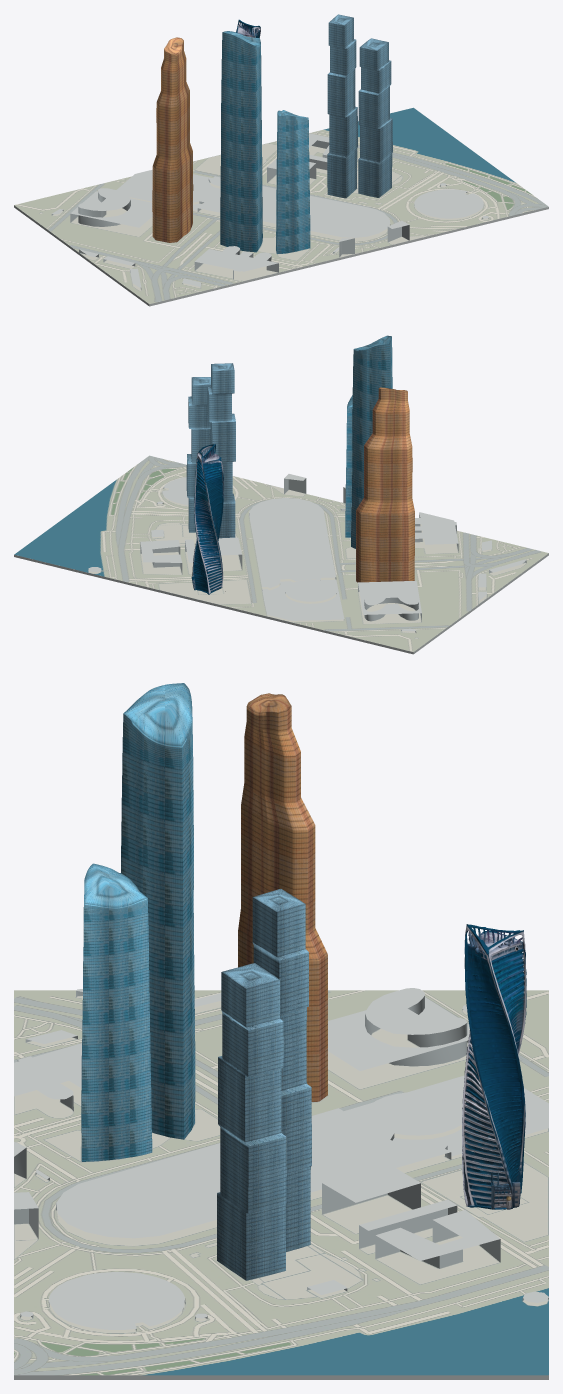
The model's file is center-01.glb.
The picture shows the model from 3 angles, top to bottom: view 1: azimuth 30°, elevation 25°; view 2: azimuth 150°, elevation 25°; view 3: azimuth 270°, elevation 25°; orthographic projection. The views are drawn at different scales.
Visible parts, largest first — view 1: Presnenskaya embankment, Surrounding relief, federation-1, mercury-1, capitals-1, capitals-2, federation-2, Cut edge; view 2: Presnenskaya embankment, Surrounding relief, mercury-1, federation-1, evolution, capitals-1, capitals-2, Cut edge, federation-2; view 3: Presnenskaya embankment, Surrounding relief, federation-1, capitals-2, federation-2, mercury-1, evolution, capitals-1, Cut edge.
Part boxes in pixels (x1,y1,x2,y2): Presnenskaya embankment: [14, 107, 548, 304]; Surrounding relief: [51, 133, 488, 289]; federation-1: [220, 31, 262, 252]; mercury-1: [152, 37, 193, 242]; capitals-1: [327, 14, 357, 198]; capitals-2: [358, 38, 392, 197]; federation-2: [276, 110, 310, 253]; Cut edge: [14, 205, 548, 306]; Presnenskaya embankment: [14, 455, 548, 651]; Surrounding relief: [88, 474, 526, 632]; mercury-1: [356, 387, 414, 582]; federation-1: [351, 335, 392, 548]; evolution: [191, 444, 225, 594]; capitals-1: [207, 363, 235, 538]; capitals-2: [186, 377, 210, 532]; Cut edge: [14, 553, 548, 654]; federation-2: [345, 395, 352, 537]; Presnenskaya embankment: [14, 990, 548, 1375]; Surrounding relief: [14, 988, 548, 1330]; federation-1: [121, 683, 195, 1139]; capitals-2: [217, 963, 286, 1280]; federation-2: [81, 863, 152, 1161]; mercury-1: [238, 693, 327, 1101]; evolution: [462, 924, 526, 1209]; capitals-1: [252, 889, 311, 1251]; Cut edge: [14, 1375, 548, 1379].
Size of the model in its own units: 735 by 378 by 431.
Materials: 5 (5 with a texture image).
